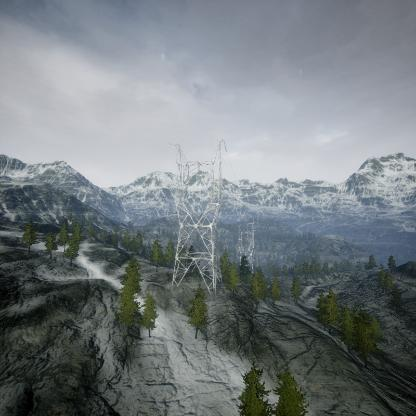tower: (165, 138, 230, 297)
